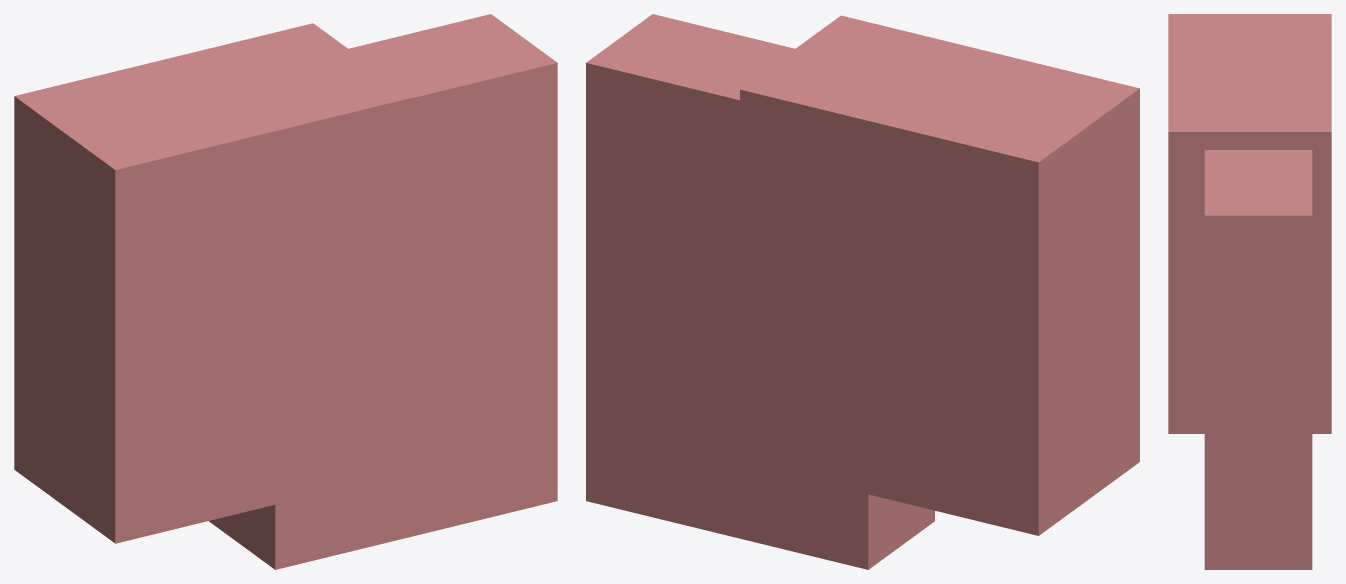
File: 199518_occ.glb
The picture shows the model from 3 angles, left to right: view 1: azimuth 30°, elevation 25°; view 2: azimuth 150°, elevation 25°; view 3: azimuth 270°, elevation 25°; orthographic projection. The views are drawn at different scales.
Visible parts, largest first — view 1: world; view 2: world; view 3: world.
Part boxes in pixels (x1,y1,x2,y2): world: (14,14,557,569); world: (586,14,1139,569); world: (1168,14,1331,569).
Size of the model in its own units: 6.64 by 6.29 by 2.5.
